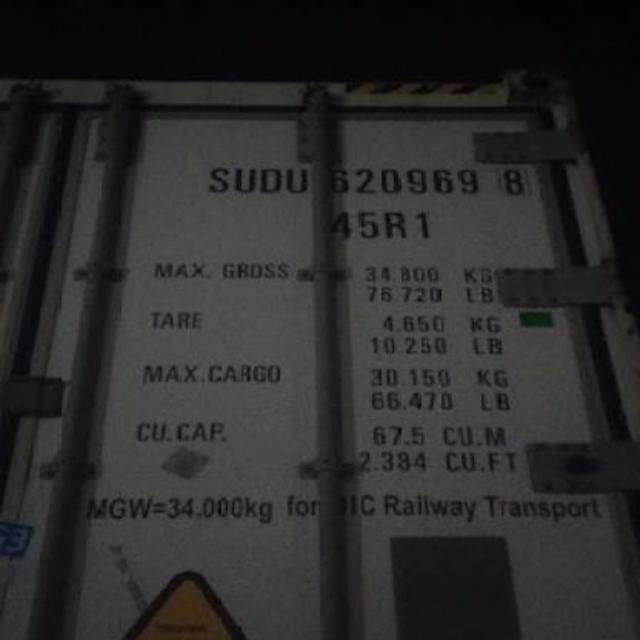0: (381, 168, 402, 198)
2: (354, 168, 376, 196)
6: (328, 167, 352, 196), (432, 167, 454, 196)
8: (500, 171, 526, 195)
9: (456, 167, 480, 197), (408, 168, 428, 196)
D: (260, 168, 282, 194)
S: (206, 164, 230, 193)
U: (234, 167, 258, 196), (286, 166, 310, 194)
